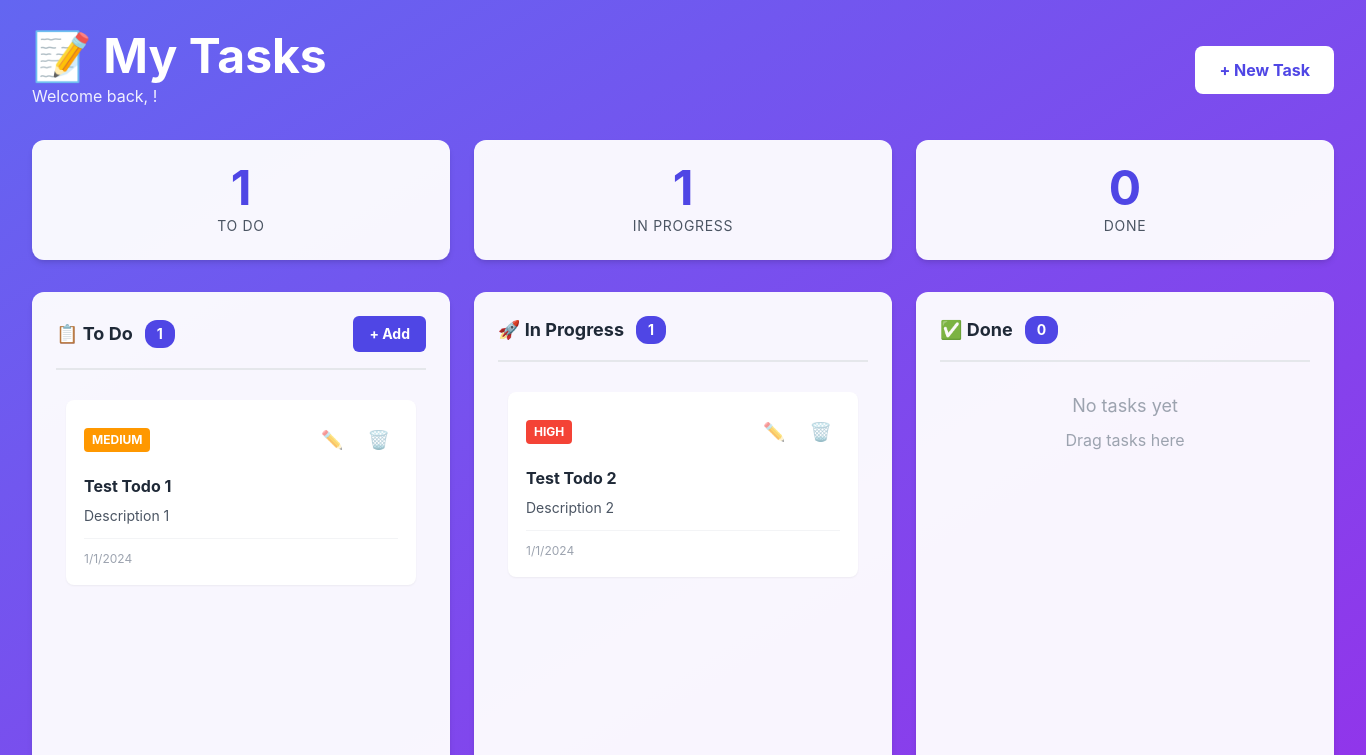
it: TodoBoard - Drag and Drop › handles optimistic update on edit
The width and height of the screenshot is (1366, 755).
expect the heading "Test Todo 1" is shown: met, box [84,476,171,496]
// Find and click edit button
Click the button titled "Edit" below "📋 To Do" at (332, 440), box [313,418,352,462]
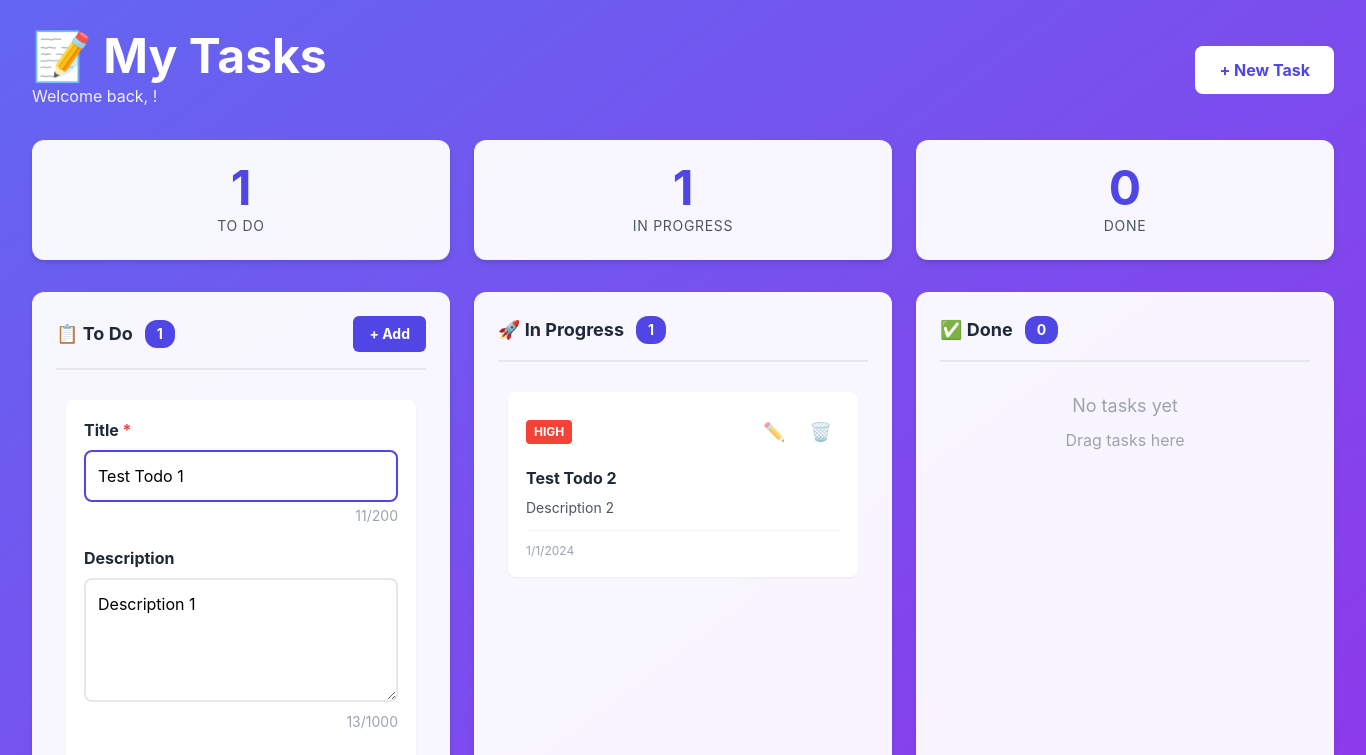
expect the field showing "Test Todo 1" is shown: met, box [84,450,398,502]
